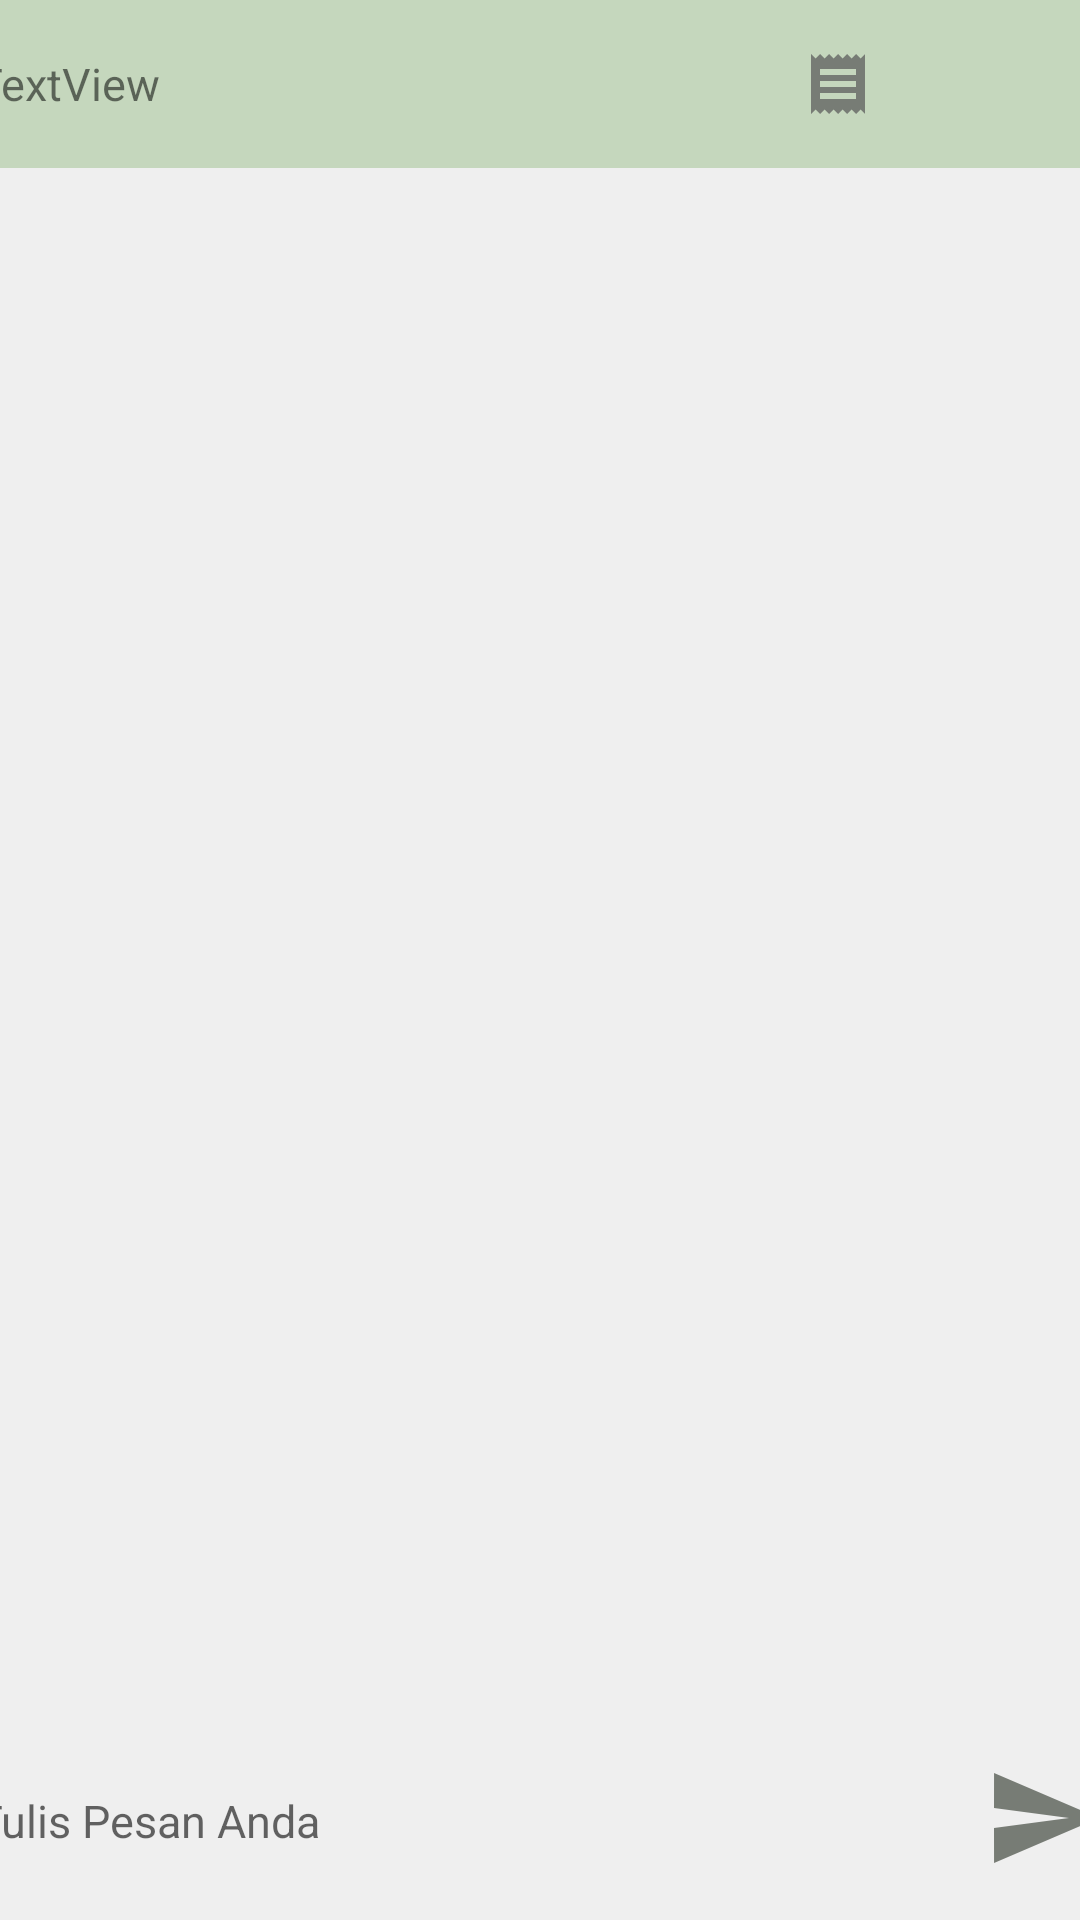

Where to tap for icons on this 1080 x 1920 app screen, as point (x, y):
receipt: point (838, 84)
